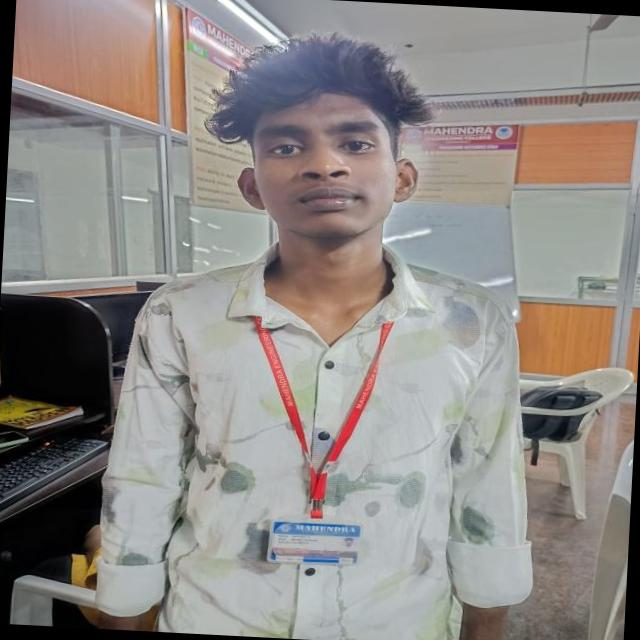id_card: (241, 308, 392, 570)
